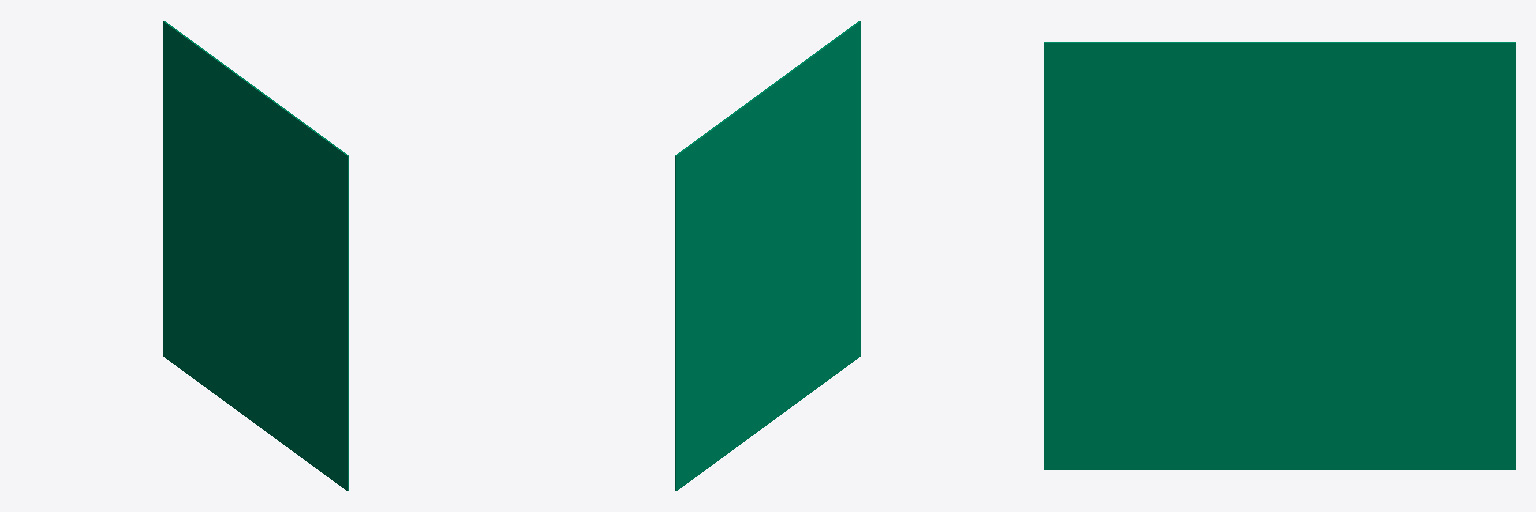
The robot description file, URDF, robot "ground_skeleton":
<?xml version="1.0"?>
<robot name="ground_skeleton">
    <link name="world" />
    <link name="ground_link">
         <collision>
            <origin xyz="0 0 -0.025" rpy="0 -0 0" />
            <geometry>
                <box size="500.0 500.0 0.05" />
            </geometry>
        </collision>
         <visual name="visual">
            <origin xyz = "0.0 0.0 0.0" rpy="0. 0 0" />
            <geometry>
                <mesh filename = "mesh/tile_marble_diamond.dae" scale="0.1 0.1 0.01" />
            </geometry>
        </visual>
        <inertial>
            <mass value="1.0" />
            <origin xyz="0 0 0" rpy="0 0 0" />
            <inertia ixx="1.0" ixy="0" ixz="0" iyy="1.0" iyz="0" izz="1.0" />
        </inertial>
    </link>
    <link name="wall_link">
         <collision>
            <origin xyz="0 0 0.0" rpy="0 0 0" />
            <geometry>
                <box size="2.0 2.0 0.01" />
            </geometry>
        </collision>
         <visual>
            <origin xyz = "0. -0. -0." rpy="0. 0 0" />
            <geometry>
                <box size="2.0 2.0 0.01" />
            </geometry>
        </visual>
        <inertial>
            <mass value="1.0" />
            <origin xyz="0 0 0" rpy="0 0 0" />
            <inertia ixx="1.0" ixy="0" ixz="0" iyy="1.0" iyz="0" izz="1.0" />
        </inertial>
    </link>
    <joint name="ground_joint" type="fixed">
        <origin xyz="0 0 0" rpy="0 0 0" />
        <parent link="world" />
        <child link="ground_link" />
    </joint>
    <joint name="wall_joint" type="fixed">
        <origin xyz="0 1 1" rpy="0 -1.5708 0" />
        <parent link="ground_link" />
        <child link="wall_link" />
    </joint>
</robot>

--- Render facts (derived) ---
3 views of the same robot in one strip: view 1: azimuth 30°, elevation 25°; view 2: azimuth 150°, elevation 25°; view 3: azimuth 270°, elevation 25° (orthographic).
Model ground_skeleton with 3 links and 2 joints (2 fixed), rooted at world, posed all joints at 0.
Visible links, largest first — view 1: wall_link; view 2: wall_link; view 3: wall_link.
Boxes of the visible links, x1,y1,x2,y2 form: wall_link: (163,21,348,490); wall_link: (675,21,860,490); wall_link: (1044,42,1515,469).
Bounding box of the posed robot: 0.01 × 2 × 2 m (x, y, z).
0 mesh visuals loaded from 1 distinct referenced files (none loaded); not drawn: 1 (reference not matched to a file when rendering).